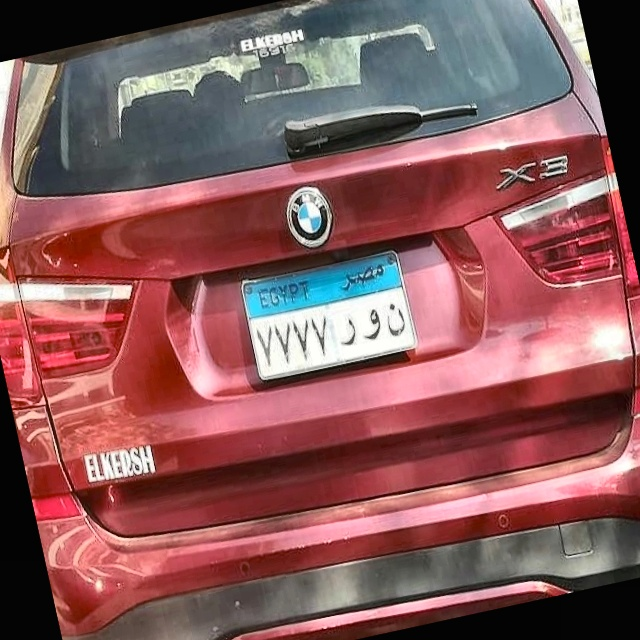License Plate: (232, 243, 423, 389)
